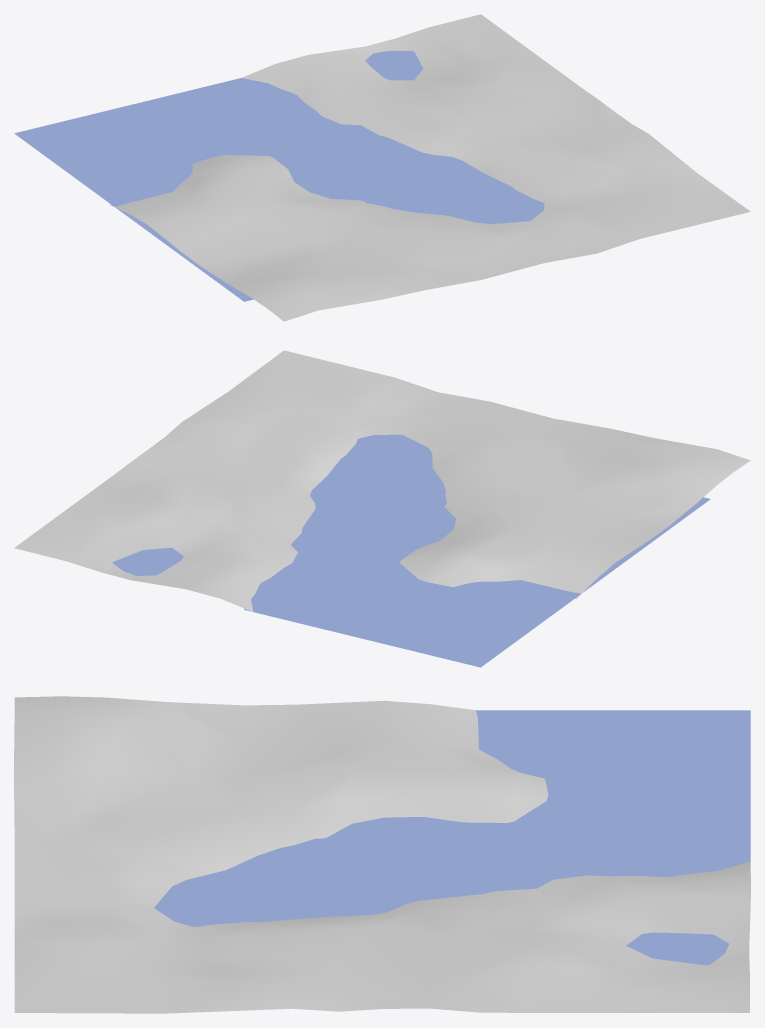
Rendered from Stage_05.fbx.
The picture shows the model from 3 angles, top to bottom: view 1: azimuth 30°, elevation 25°; view 2: azimuth 150°, elevation 25°; view 3: azimuth 270°, elevation 25°; orthographic projection. The views are drawn at different scales.
Parts seen in each view (by area): view 1: ICE.002; view 2: ICE.002; view 3: ICE.002.
Part boxes in pixels (left/top/right/bottom): ICE.002: left=14, top=14, right=750, bottom=321; ICE.002: left=14, top=350, right=750, bottom=667; ICE.002: left=14, top=696, right=750, bottom=1013.
Size of the model in its own units: 2283 by 141 by 2290.
